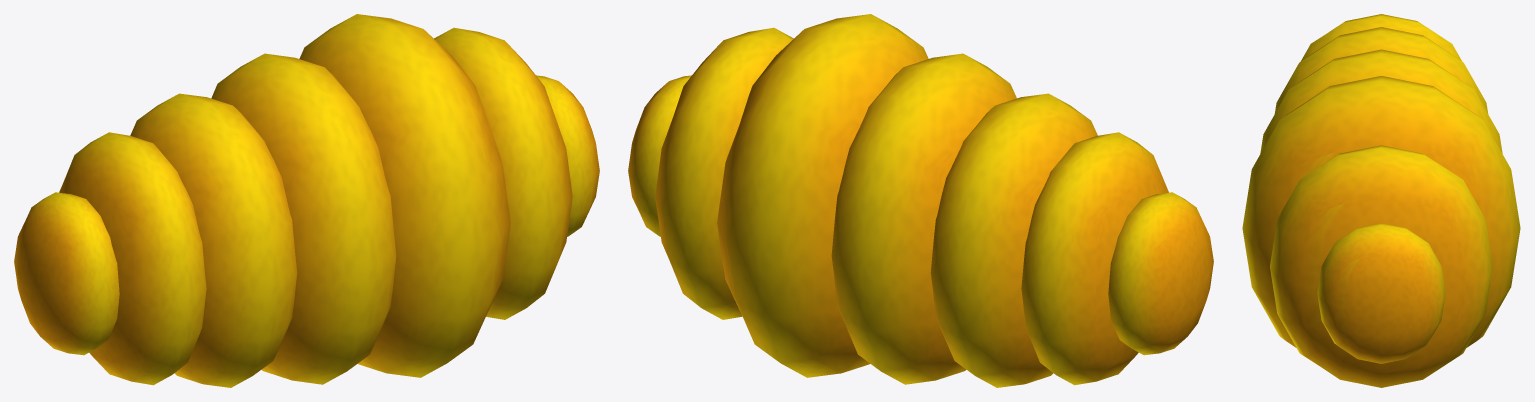
File: me_Cocoon.fbx
The picture shows the model from 3 angles, left to right: view 1: azimuth 30°, elevation 25°; view 2: azimuth 150°, elevation 25°; view 3: azimuth 270°, elevation 25°; orthographic projection. The views are drawn at different scales.
Visible parts, largest first — view 1: me_Cocoon; view 2: me_Cocoon; view 3: me_Cocoon.
Boxes of the visible parts, x1,y1,x2,y2 form: me_Cocoon: (14, 14, 599, 387); me_Cocoon: (628, 14, 1213, 387); me_Cocoon: (1242, 14, 1520, 387).
Size of the model in its own units: 1 by 0.586 by 0.5001.
